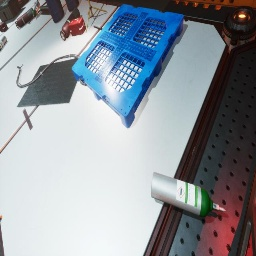0: (151, 172, 226, 217), (32, 1, 40, 18), (0, 36, 7, 51)
FirstAidBox ,: (68, 17, 86, 36), (0, 22, 8, 32)
NitrogenTank ,: (60, 8, 80, 41), (15, 8, 33, 29)
